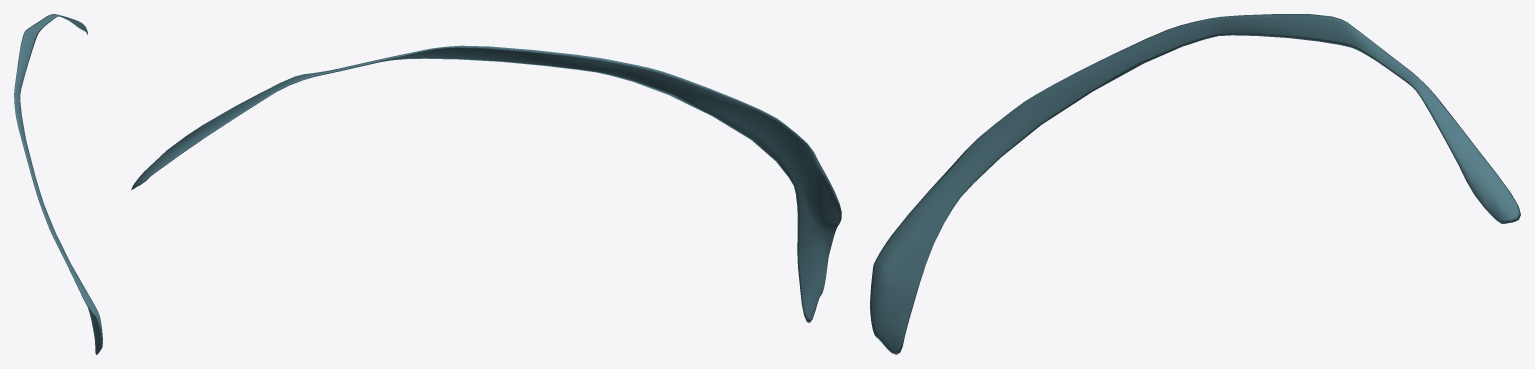
Rendered from Transverse_abdominal_muscle-Iliac_insertion.r_Generated_Mesh_Fr.glb.
3 views of the same model, side by side, from view 1: azimuth 30°, elevation 25°; view 2: azimuth 150°, elevation 25°; view 3: azimuth 270°, elevation 25° (orthographic). The views are drawn at different scales.
Visible parts, largest first — view 1: Transverse_abdominal_muscle-Iliac_insertion.r_Generated_Mesh; view 2: Transverse_abdominal_muscle-Iliac_insertion.r_Generated_Mesh; view 3: Transverse_abdominal_muscle-Iliac_insertion.r_Generated_Mesh.
Boxes of the visible parts, x1=… form: Transverse_abdominal_muscle-Iliac_insertion.r_Generated_Mesh: x1=14, y1=14, x2=102, y2=354; Transverse_abdominal_muscle-Iliac_insertion.r_Generated_Mesh: x1=131, y1=45, x2=841, y2=322; Transverse_abdominal_muscle-Iliac_insertion.r_Generated_Mesh: x1=870, y1=14, x2=1520, y2=354.
Size of the model in its own units: 0.0661 by 0.0736 by 0.1133.
